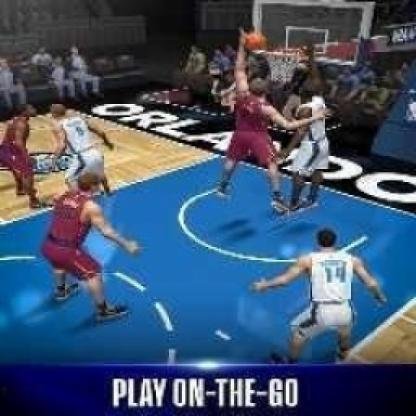basketball: (245, 32, 267, 51)
